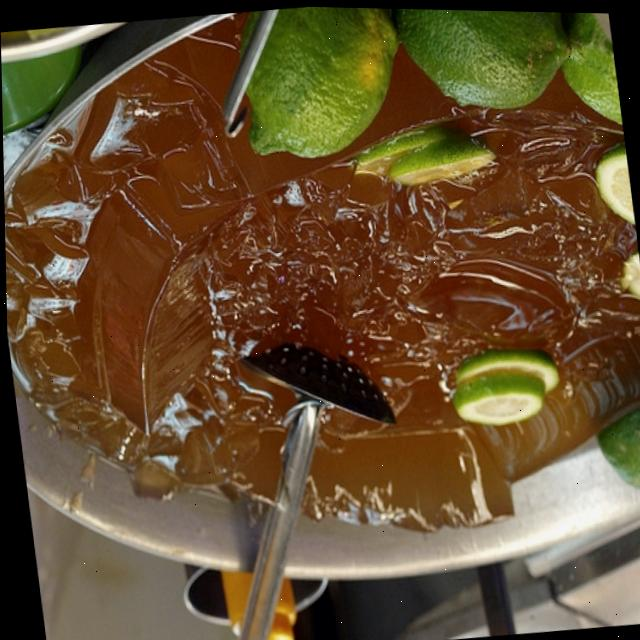蛋糕甜品: (0, 0, 640, 630)
